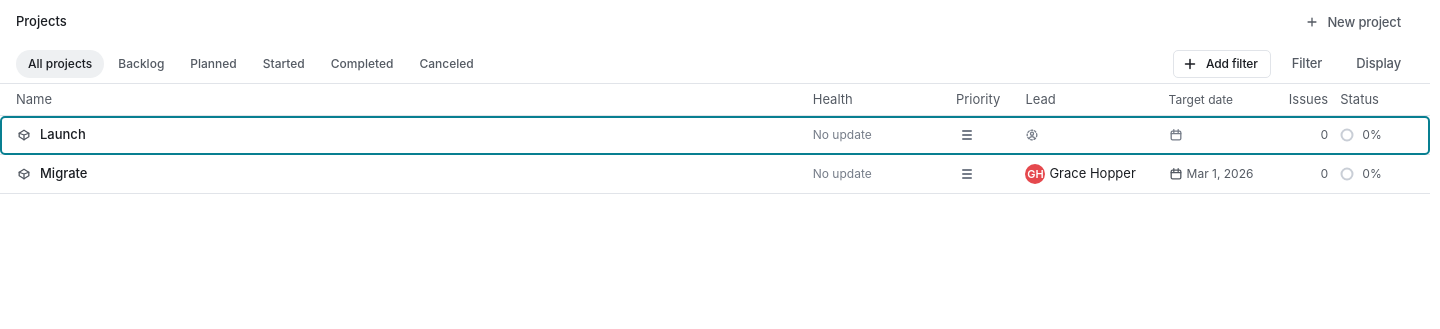
Test: Projects row lead › opens the lead picker from the row without opening the project
The image size is (1440, 329).
Click the button named "No lead" at (1032, 135), box 1021,124 -> 1043,146
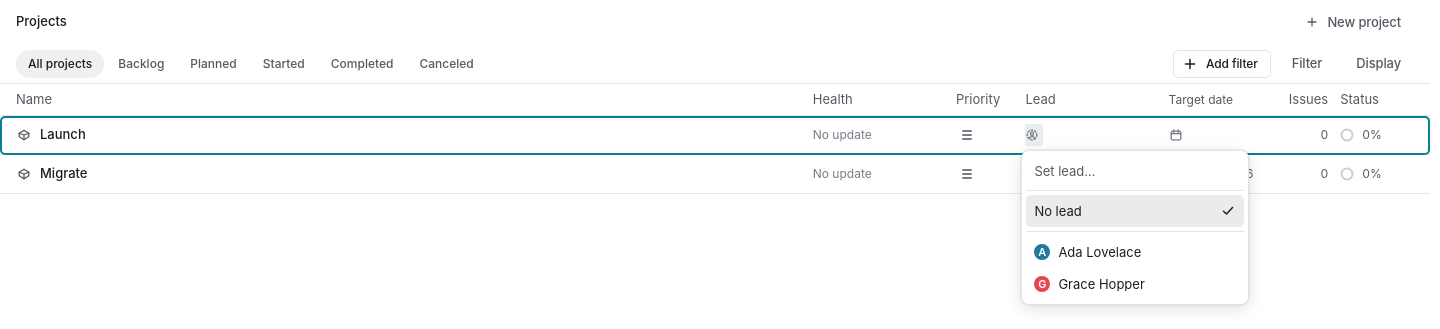
expect the menu "lead" is shown: met, box 1026,195 -> 1244,300
